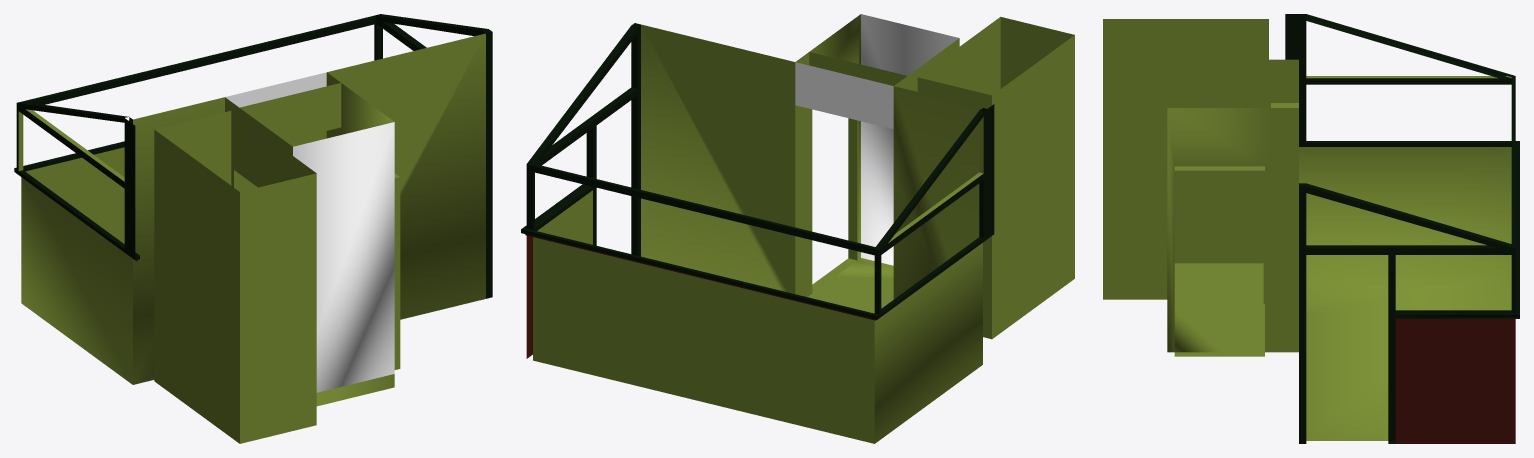
The model's file is conservatory_model.obj.
The picture shows the model from 3 angles, left to right: view 1: azimuth 30°, elevation 25°; view 2: azimuth 150°, elevation 25°; view 3: azimuth 270°, elevation 25°; orthographic projection. The views are drawn at different scales.
Parts seen in each view (by area): view 1: conservatory; view 2: conservatory; view 3: conservatory.
Part boxes in pixels (x1,y1,x2,y2): conservatory: [14, 14, 492, 443]; conservatory: [521, 14, 1074, 443]; conservatory: [1103, 14, 1519, 443].
Size of the model in its own units: 0.0504 by 0.0347 by 0.0509.
